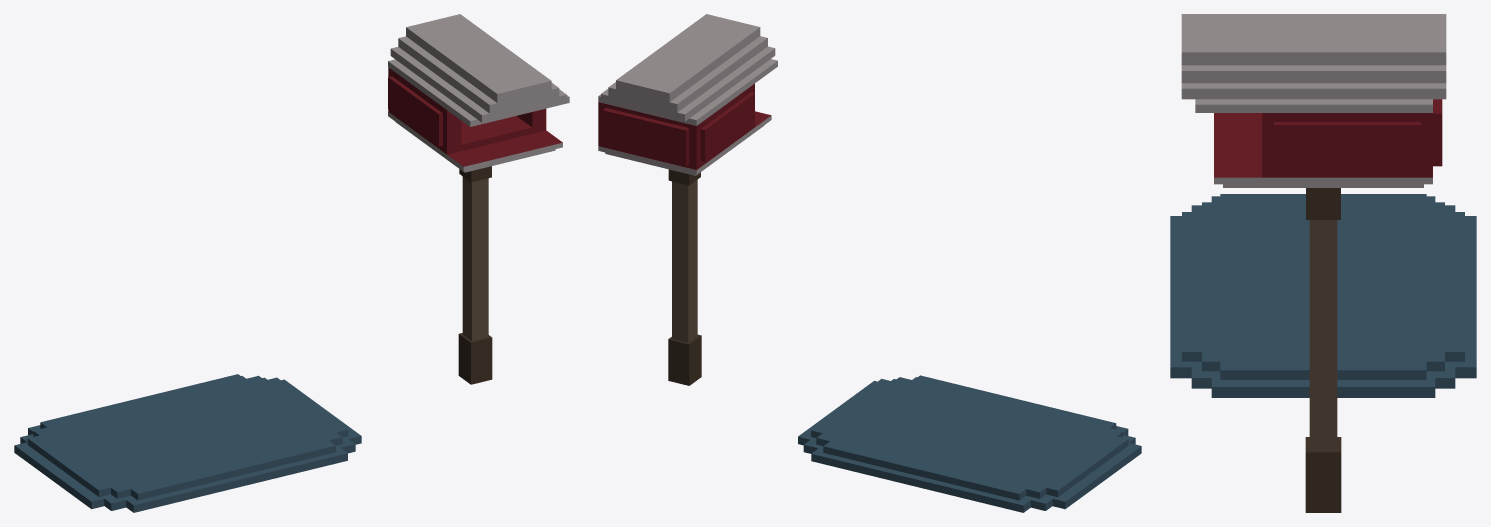
Rendered from briefenbus en buurmat.fbx.
The picture shows the model from 3 angles, left to right: view 1: azimuth 30°, elevation 25°; view 2: azimuth 150°, elevation 25°; view 3: azimuth 270°, elevation 25°; orthographic projection. The views are drawn at different scales.
Visible parts, largest first — view 1: duur_mat, briefenbus; view 2: duur_mat, briefenbus; view 3: duur_mat, briefenbus.
Part boxes in pixels (x1,y1,x2,y2): duur_mat: [14, 374, 361, 512]; briefenbus: [388, 14, 569, 384]; duur_mat: [798, 375, 1141, 512]; briefenbus: [598, 14, 777, 385]; duur_mat: [1170, 194, 1476, 397]; briefenbus: [1181, 14, 1446, 512].
Bounding box in the file's own units: 11.02 × 7.21 × 4.24.
